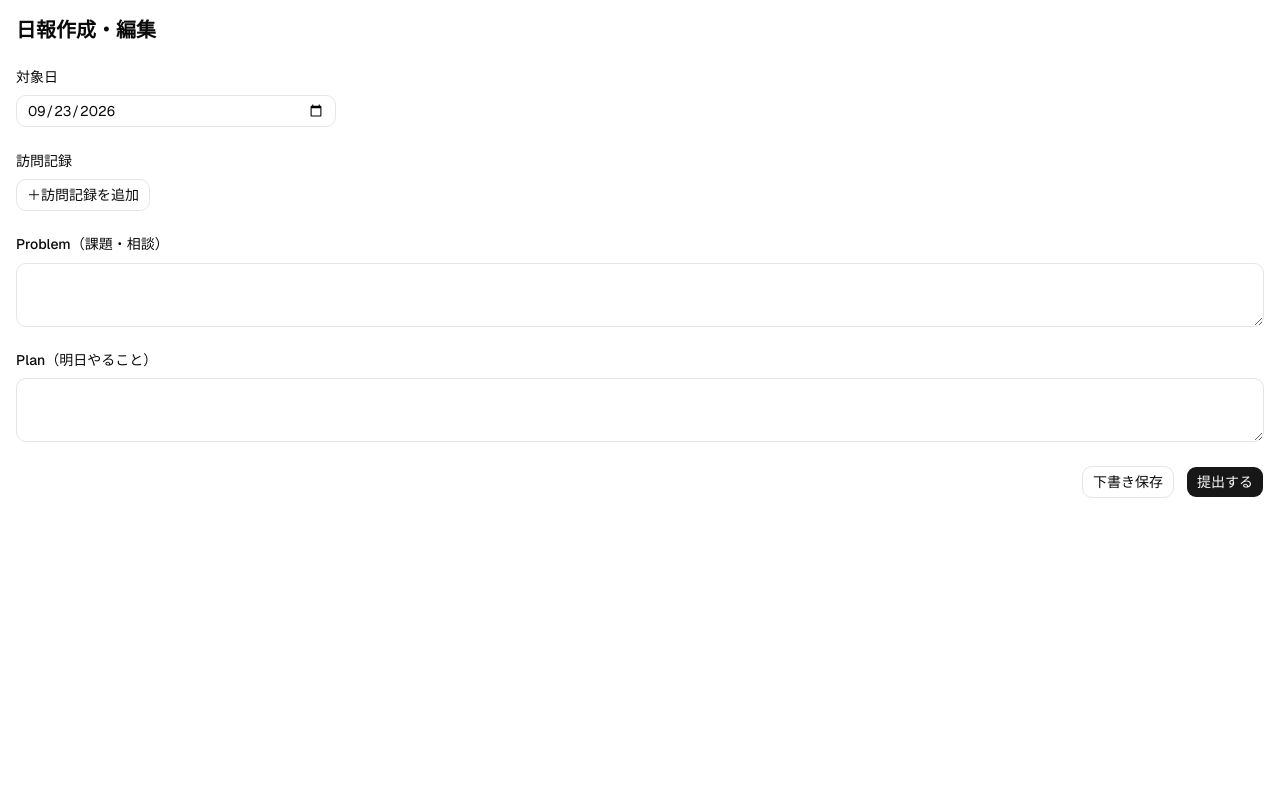
ReportForm (create mode) › adds a visit record row each time the add button is clicked (TC-SCR02-01)
Click the button "＋訪問記録を追加" at (83, 195), box 16,179 -> 150,211
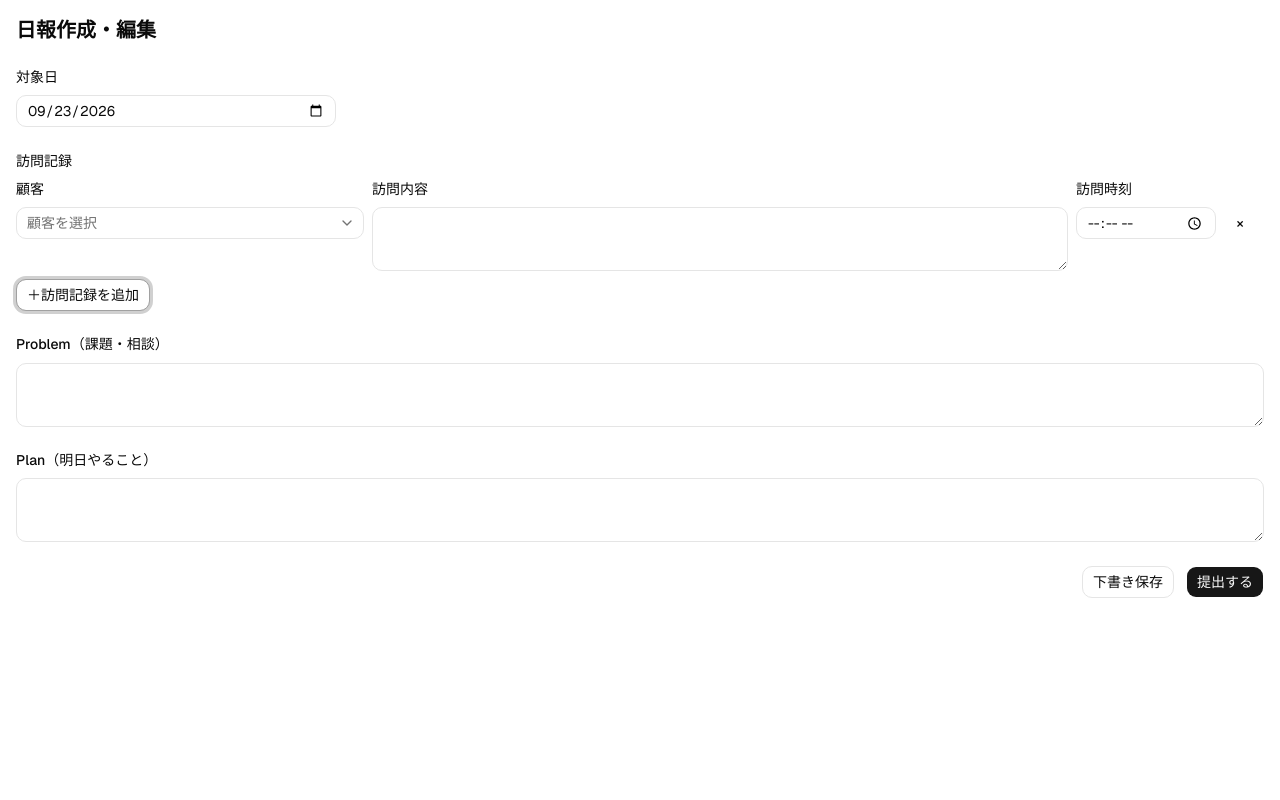
Click the button "＋訪問記録を追加" at (83, 295), box 16,279 -> 150,311
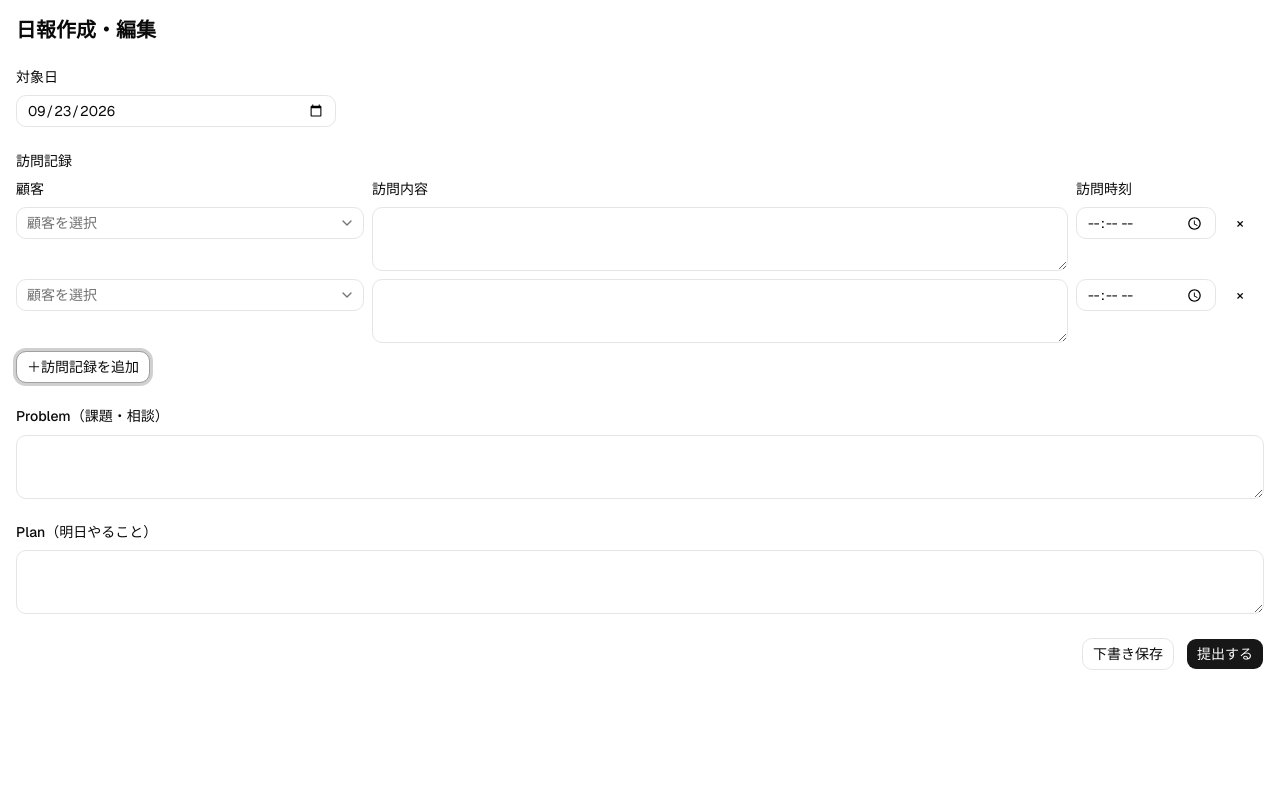
Click the button "＋訪問記録を追加" at (83, 367), box 16,351 -> 150,383
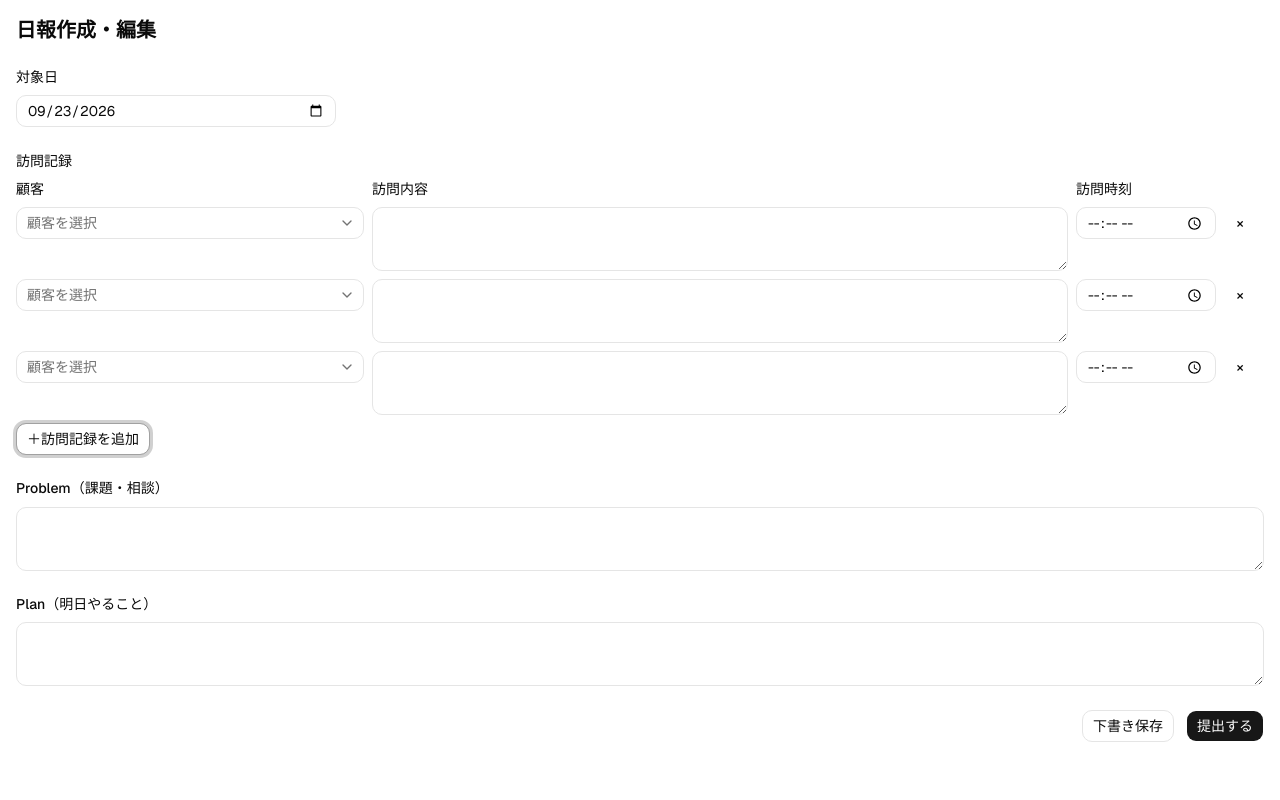
Now the dropdown named "訪問記録1件目の顧客" is shown, box 16,207 -> 364,239
Now the dropdown named "訪問記録2件目の顧客" is shown, box 16,279 -> 364,311
Now the number of dropdowns labelled "顧客を選択" is 3, box 16,207 -> 364,239; 16,279 -> 364,311; 16,351 -> 364,383
